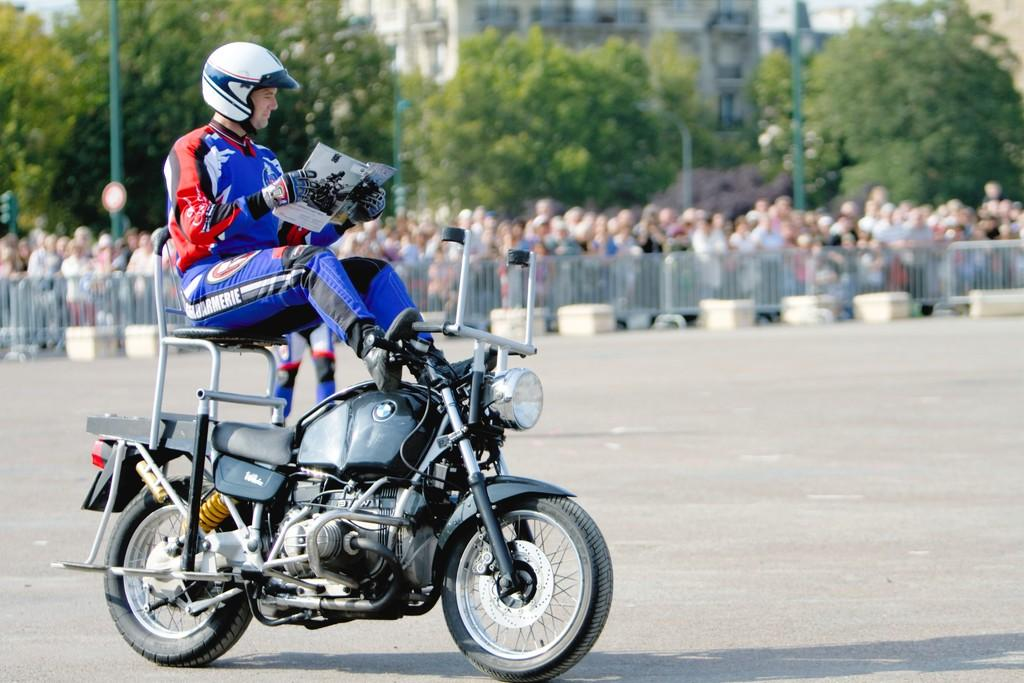helmet: (201, 41, 300, 128)
